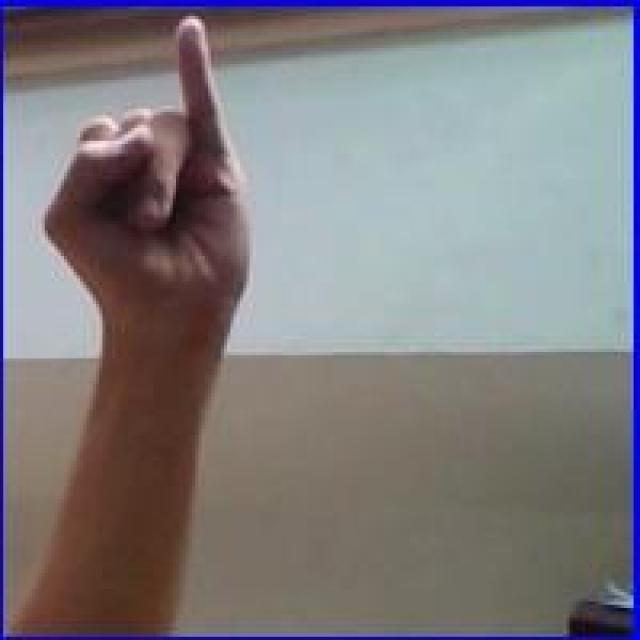I: (32, 11, 253, 354)
